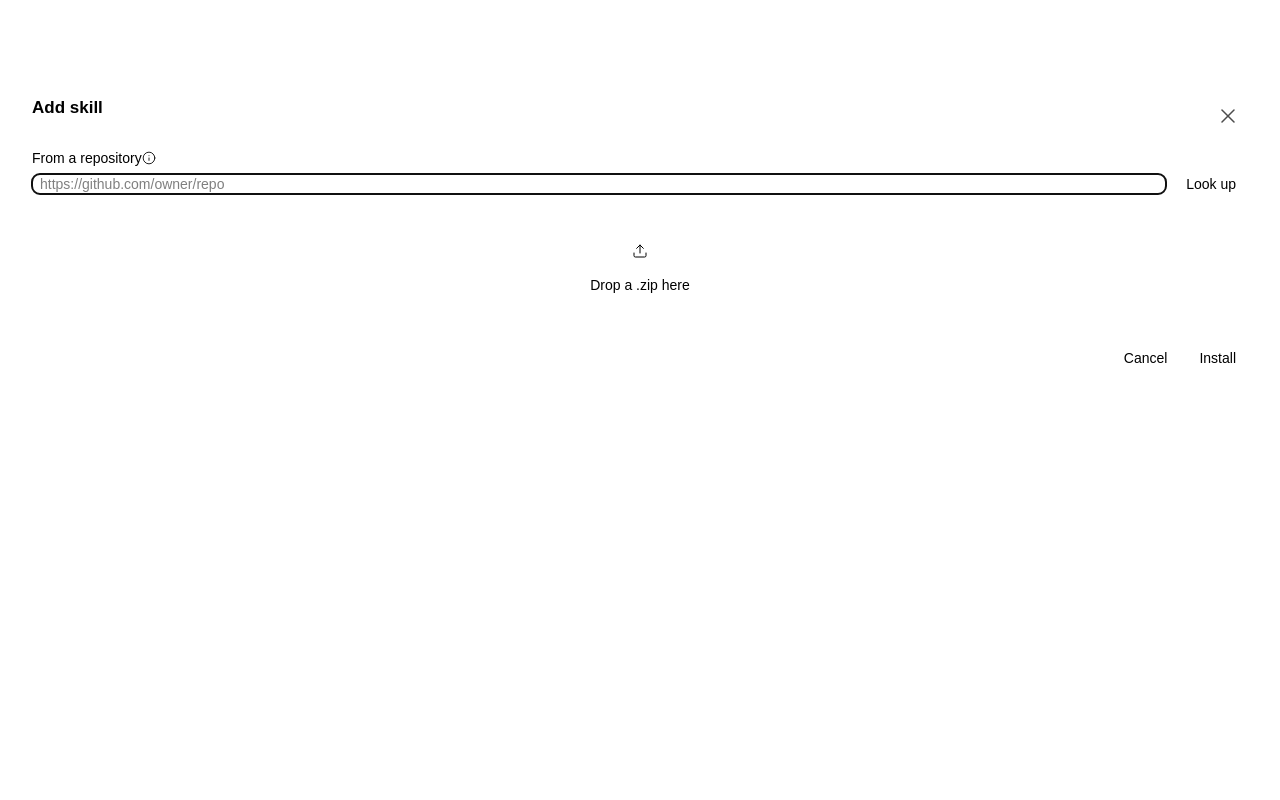
Test: AddSkillModal: fills before lines › marks the zone for an error and clears the mark once a lookup works
This screenshot has width=1280, height=800.
Type "https://example.com/x.zip" into the field with placeholder "https://github.com/owner/repo" at (599, 184), box [32,174,1166,194]
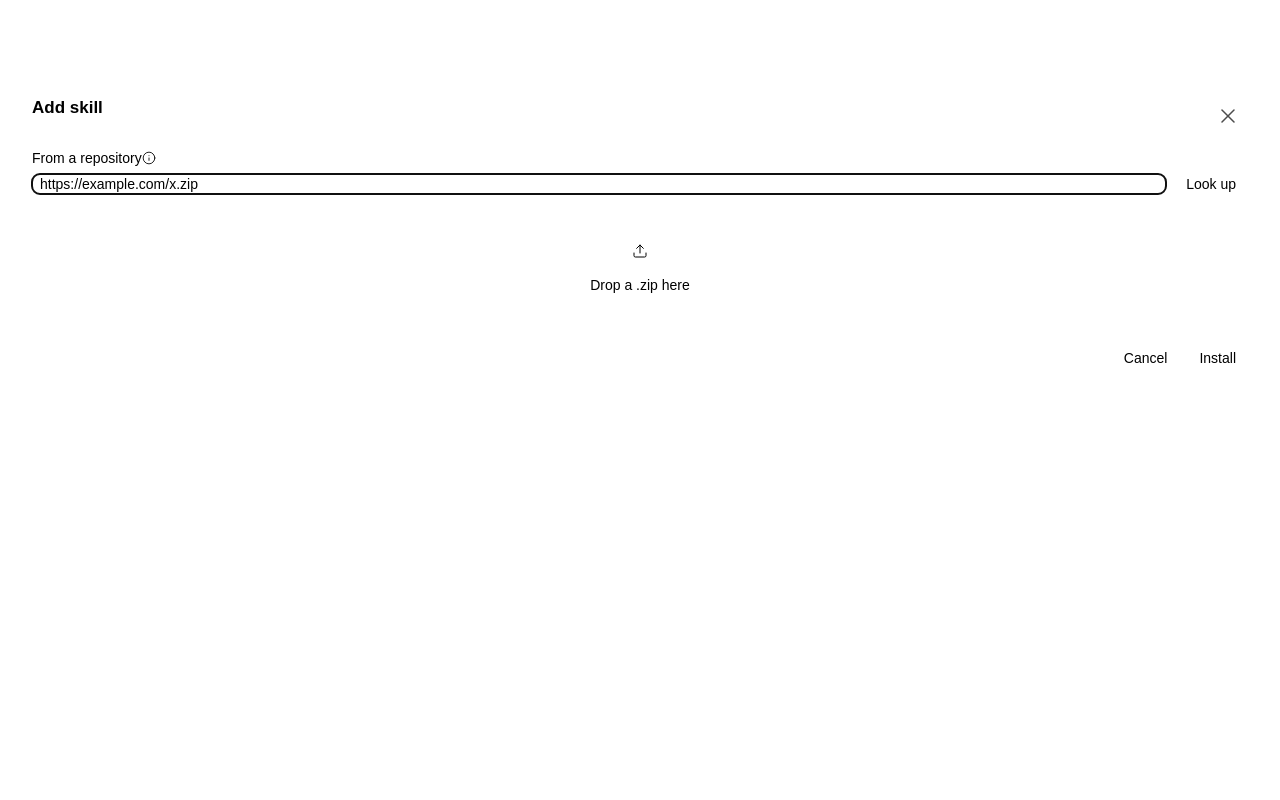
Click the button "Look up" at (1211, 184), box [1174,174,1248,194]
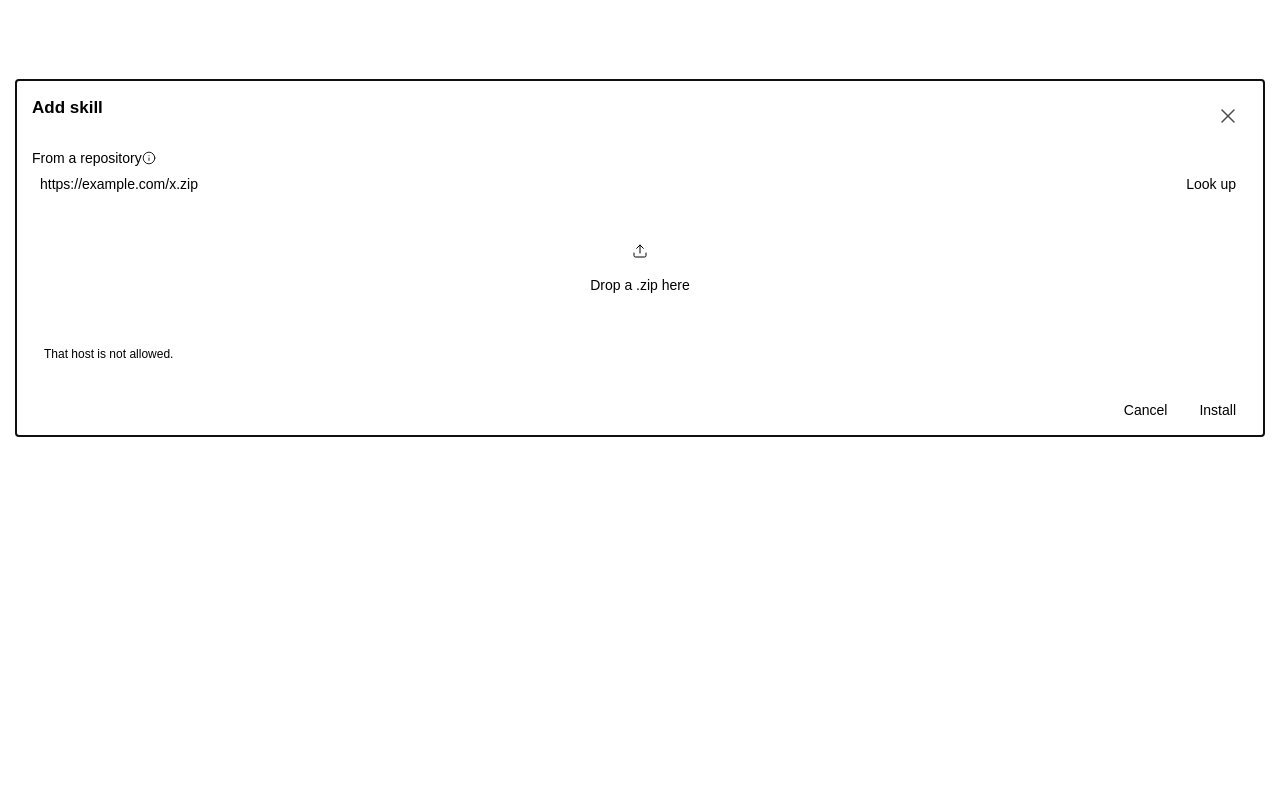
Expected: the text "That host is not allowed." is shown, [44,347,173,361]
Replace the text in the field with placeholder "https://github.com/owner/repo" with "https://github.com/o/r" at (599, 184), box [32,174,1166,194]
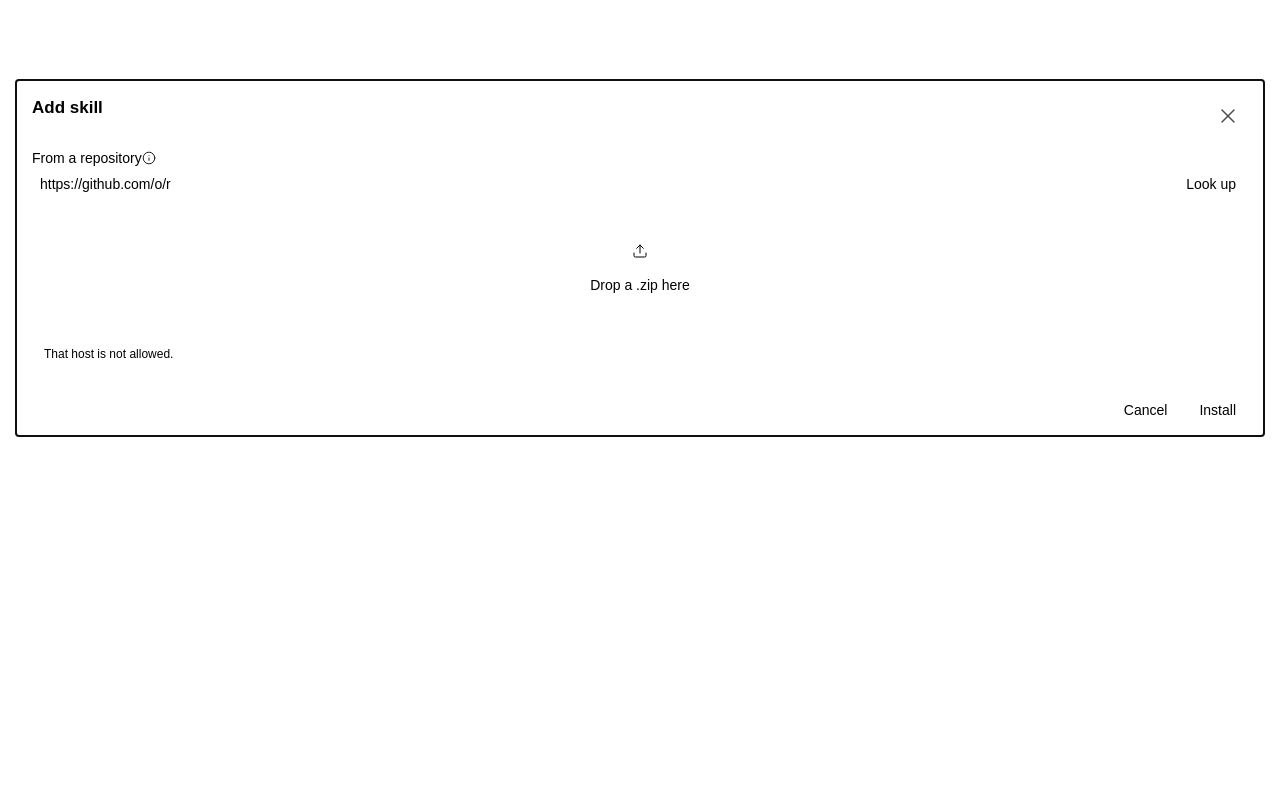
Click the button "Look up" at (1211, 184), box [1174,174,1248,194]
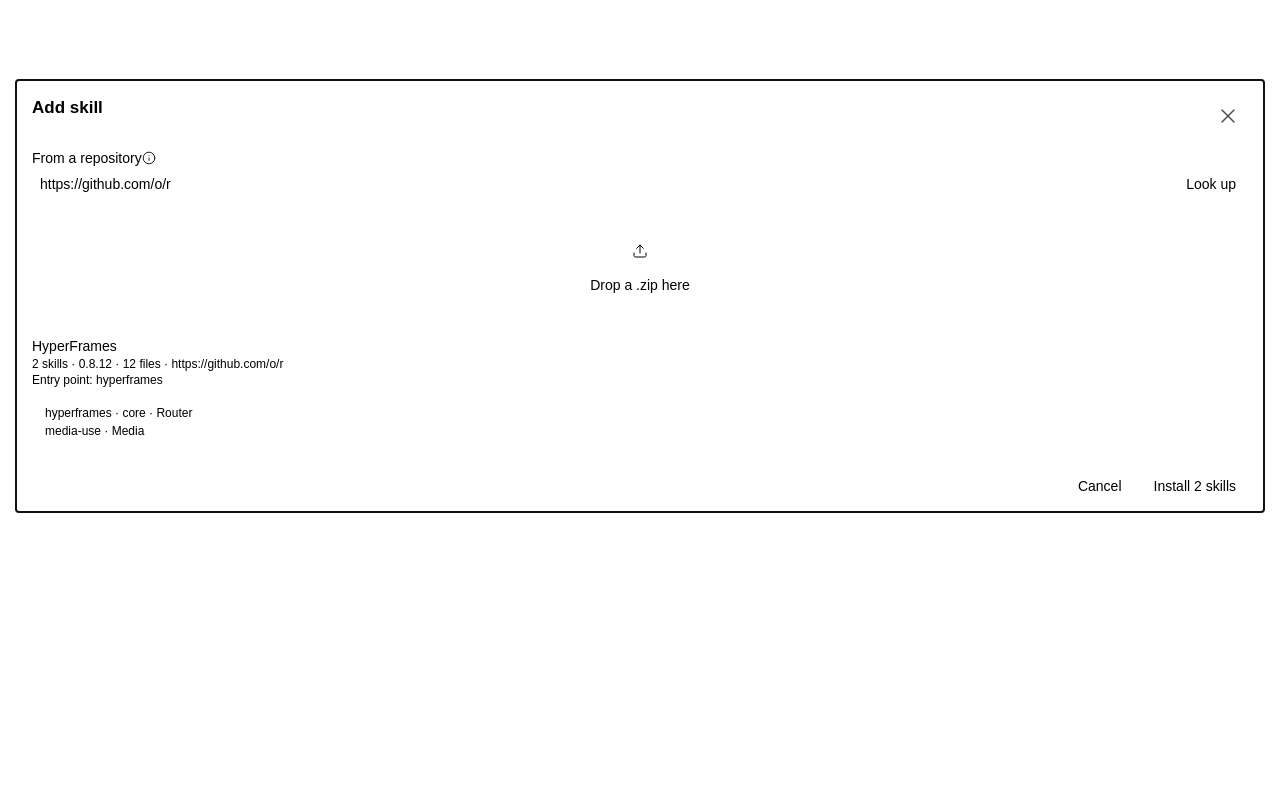
Expected: the text "HyperFrames" is shown, [32,338,117,354]
